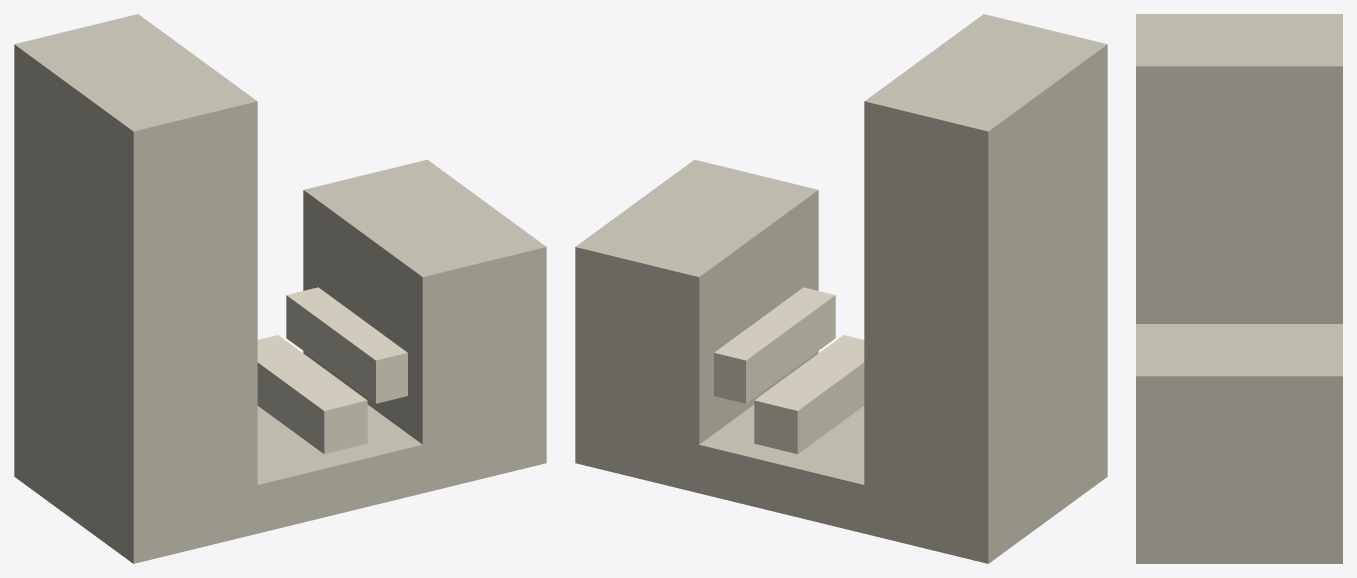
Rendered from curtain-breached.glb.
3 views of the same model, side by side, from view 1: azimuth 30°, elevation 25°; view 2: azimuth 150°, elevation 25°; view 3: azimuth 270°, elevation 25° (orthographic). The views are drawn at different scales.
Parts seen in each view (by area): view 1: curtain-breached; view 2: curtain-breached; view 3: curtain-breached.
Boxes of the visible parts, x1=… form: curtain-breached: x1=14, y1=14, x2=546, y2=563; curtain-breached: x1=575, y1=14, x2=1107, y2=563; curtain-breached: x1=1136, y1=14, x2=1342, y2=563.
Size of the model in its own units: 4 by 4 by 2.
